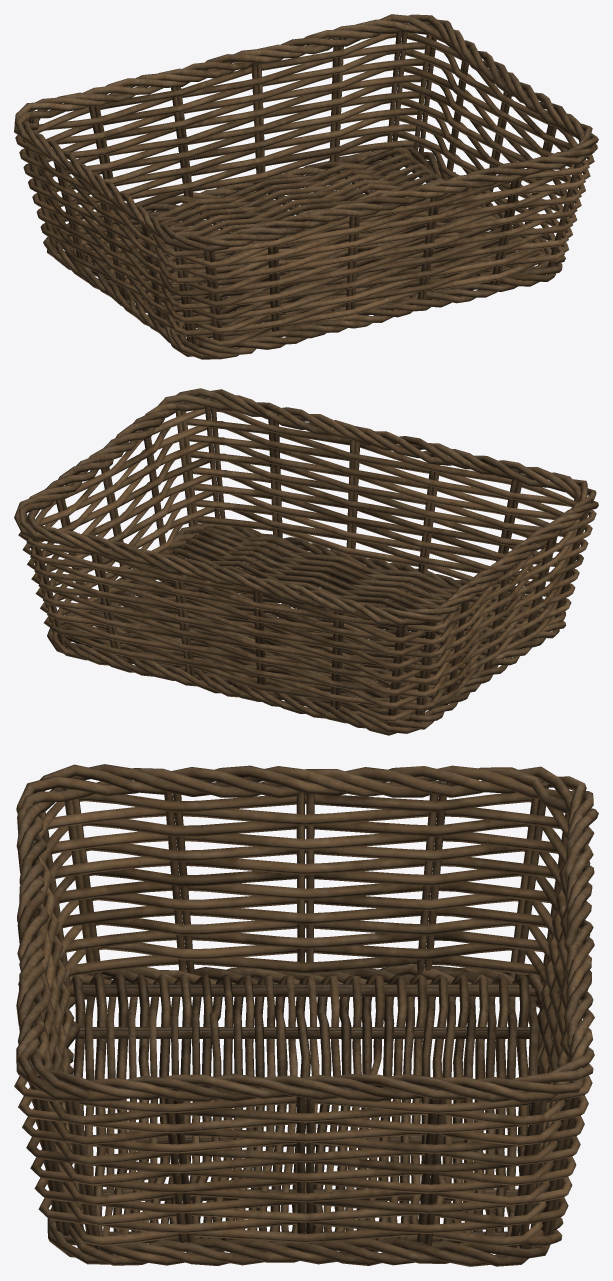
Rendered from wicker_basket_01.glb.
The picture shows the model from 3 angles, top to bottom: view 1: azimuth 30°, elevation 25°; view 2: azimuth 150°, elevation 25°; view 3: azimuth 270°, elevation 25°; orthographic projection. The views are drawn at different scales.
Visible parts, largest first — view 1: wicker_basket_01; view 2: wicker_basket_01; view 3: wicker_basket_01.
Boxes of the visible parts, left/top/right/bottom form: wicker_basket_01: left=14, top=14, right=598, bottom=359; wicker_basket_01: left=14, top=388, right=598, bottom=735; wicker_basket_01: left=14, top=764, right=598, bottom=1266.
Bounding box in the file's own units: 0.3832 × 0.1174 × 0.295.
1 material, 1 textured.
